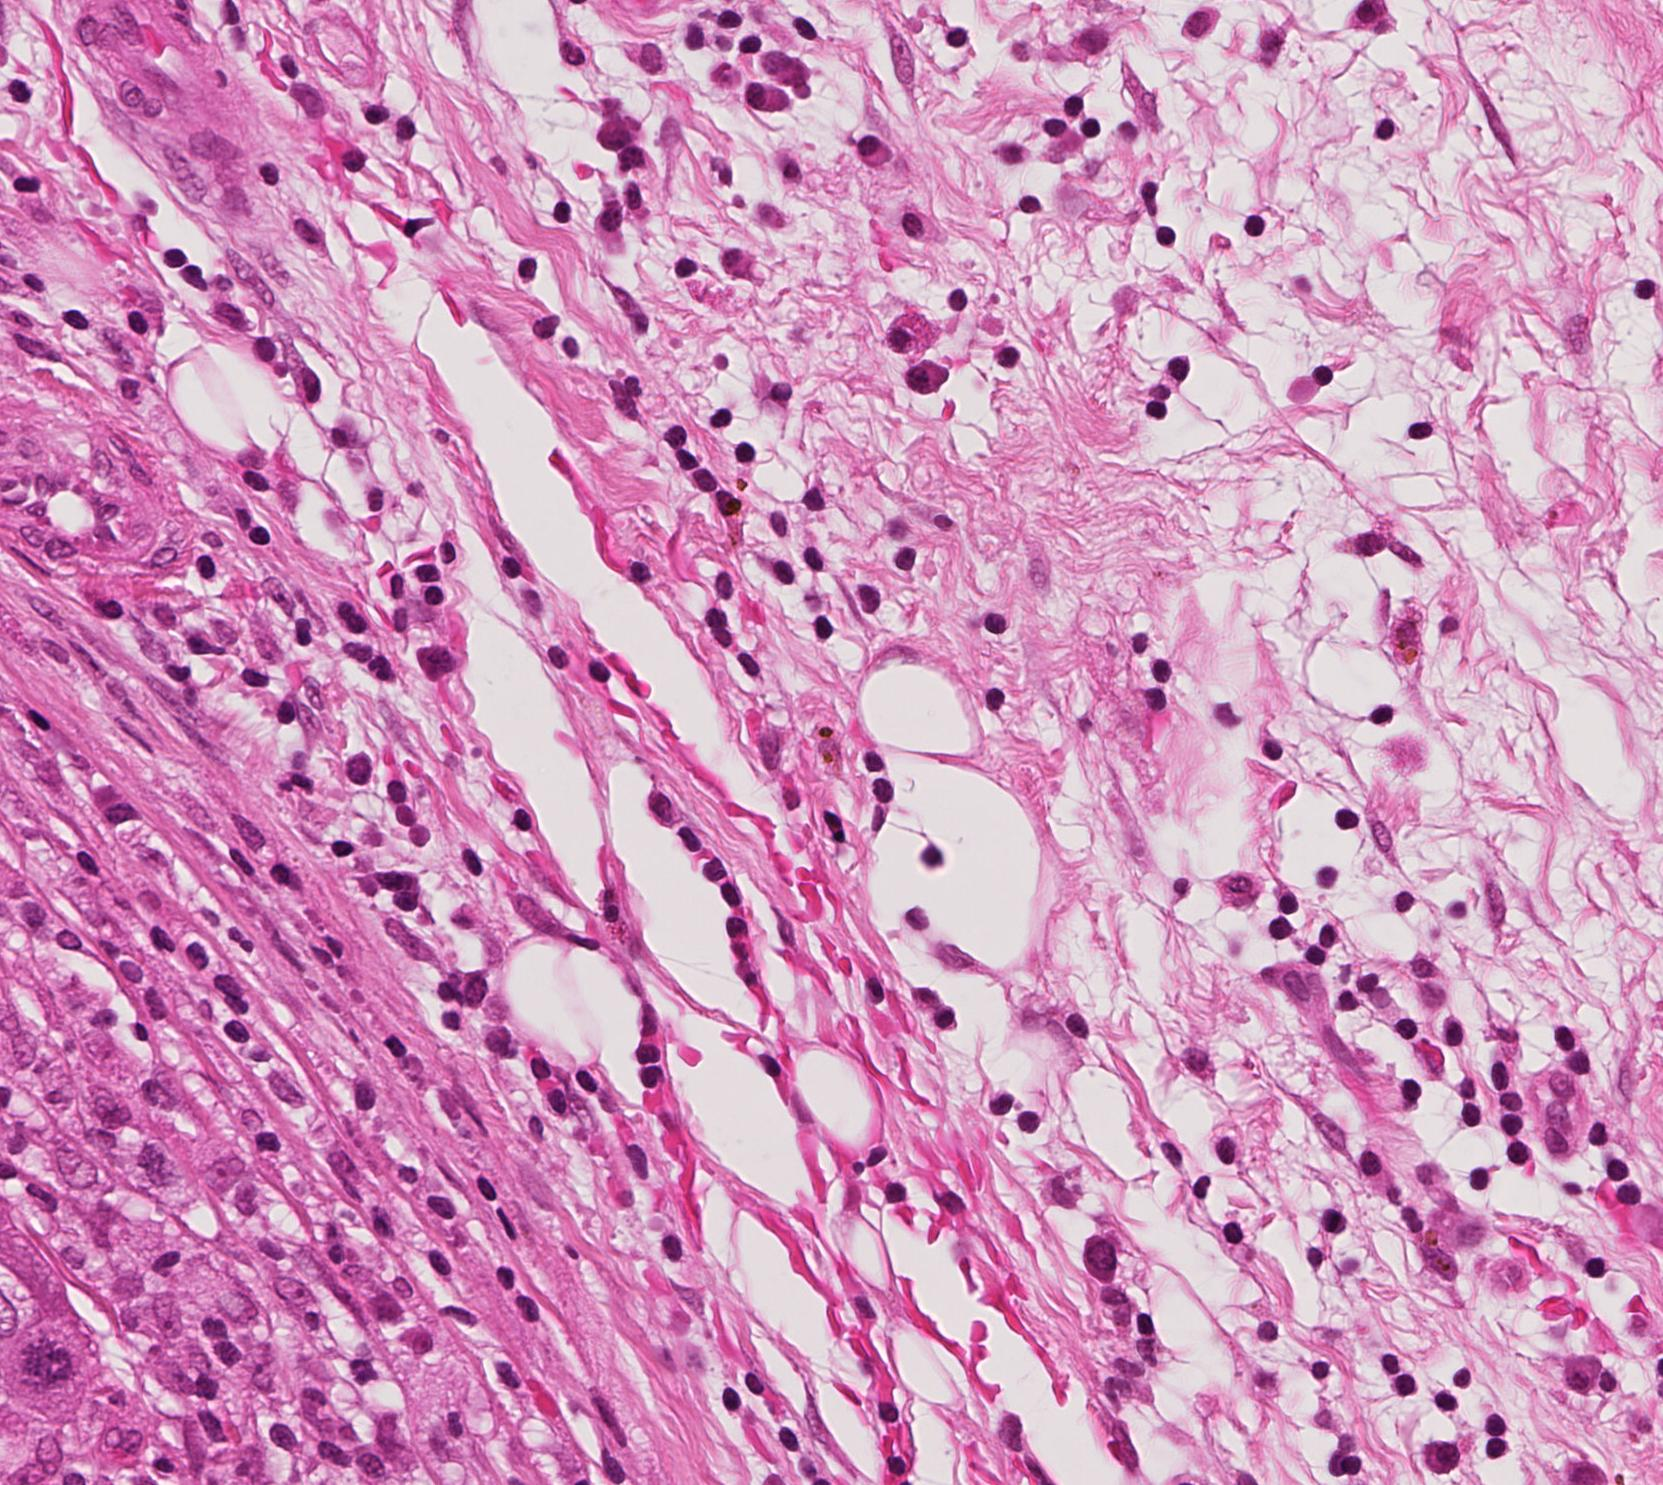mitosis: (11, 1334, 72, 1395)
